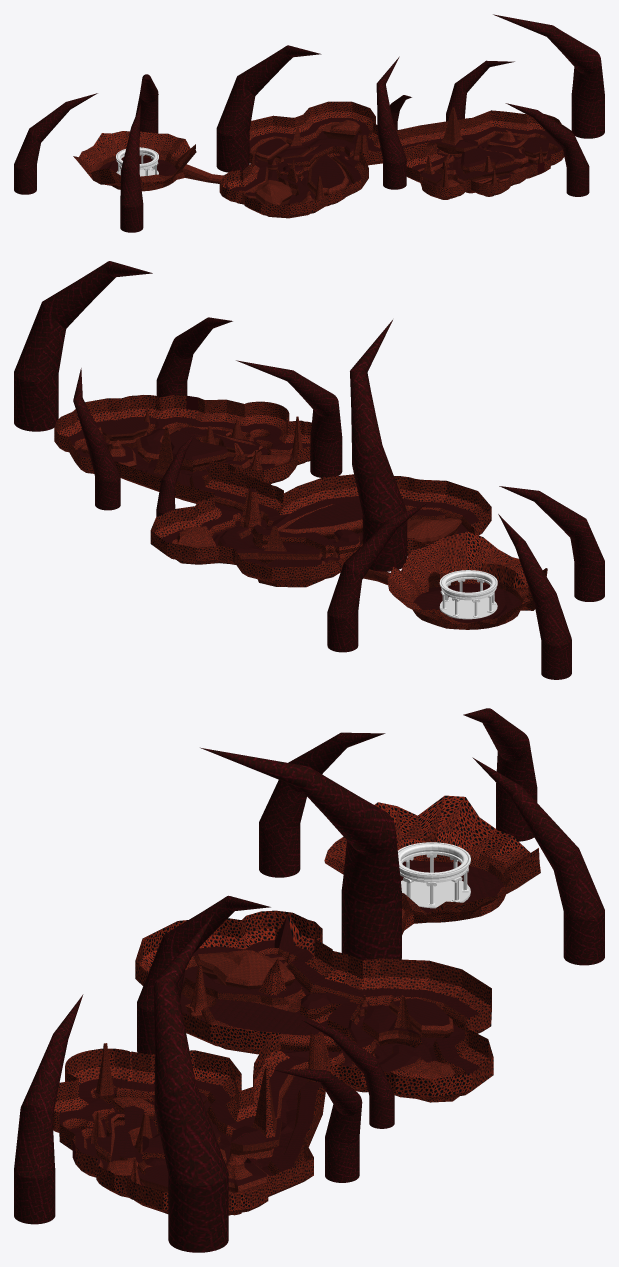
The model's file is Mapa Boss Ojo.fbx.
3 renders of one model, top to bottom at view 1: azimuth 30°, elevation 25°; view 2: azimuth 150°, elevation 25°; view 3: azimuth 270°, elevation 25°, orthographic. The views are drawn at different scales.
Parts seen in each view (by area): view 1: Mapa Boss; view 2: Mapa Boss; view 3: Mapa Boss.
Part boxes in pixels (<box>): Mapa Boss: <box>14,14,604,232</box>; Mapa Boss: <box>14,261,604,679</box>; Mapa Boss: <box>14,708,604,1252</box>.
Size of the model in its own units: 53498 by 30323 by 16675.
4 materials, 3 textured.
